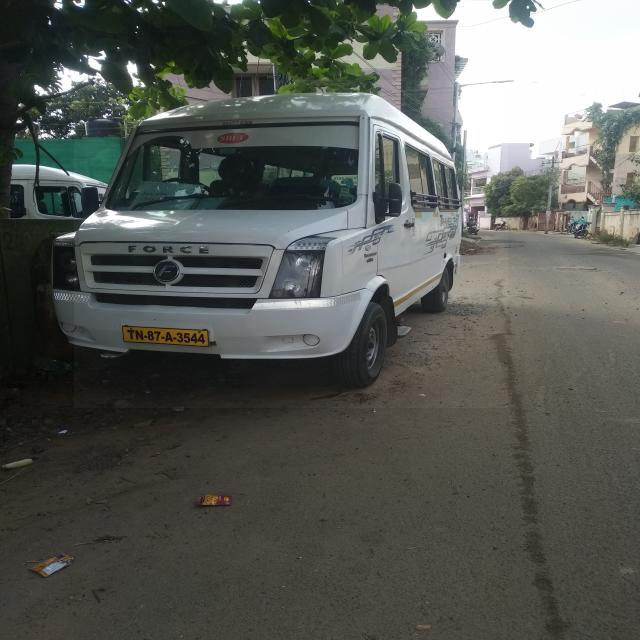Travller: (74, 80, 508, 408)
